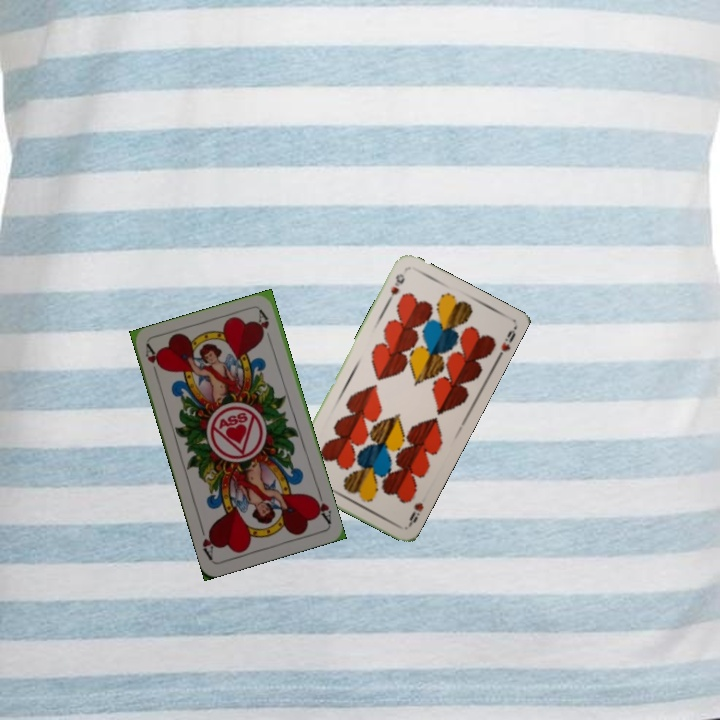H9: (384, 270, 408, 304), (405, 498, 426, 528)
HA: (309, 487, 334, 526), (141, 341, 164, 381)
